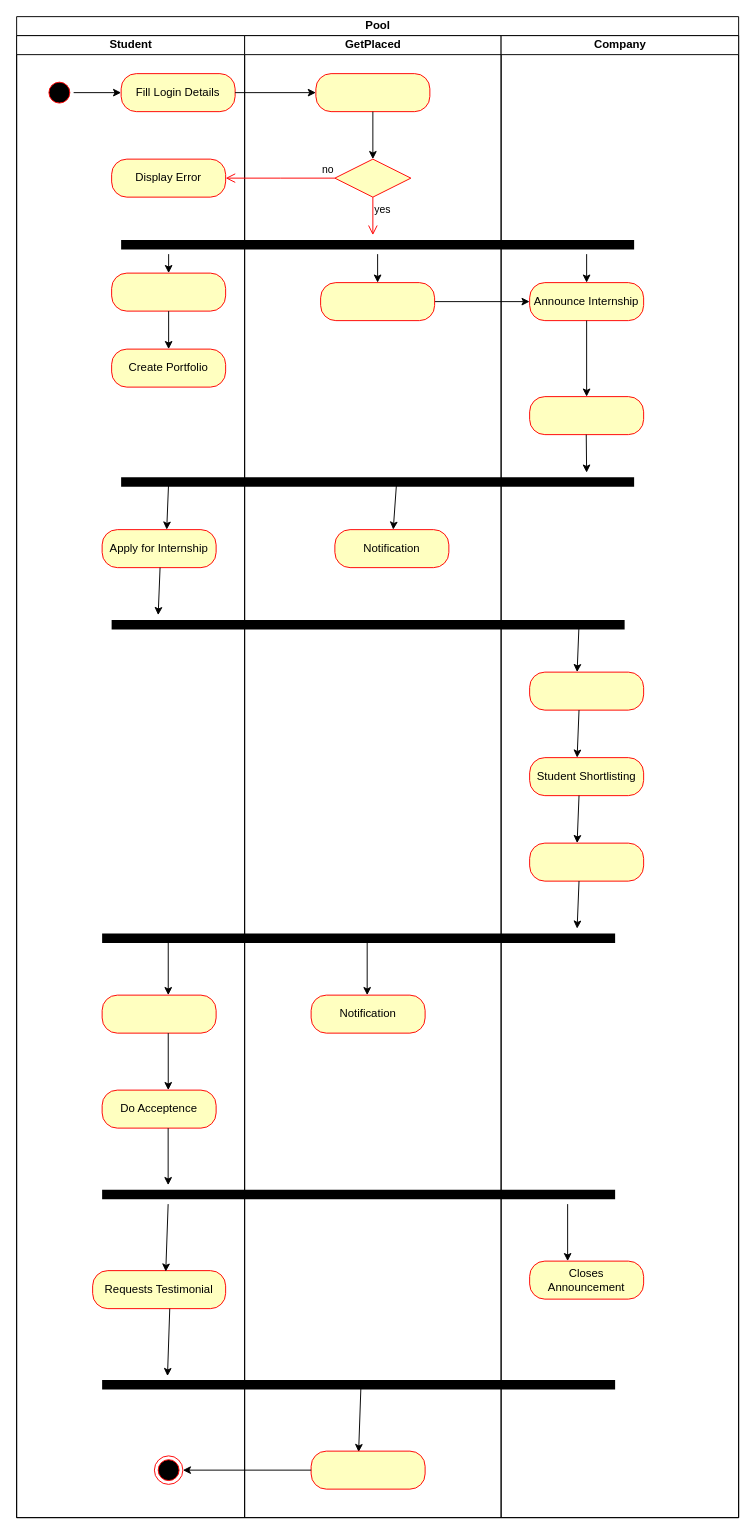
This 755x1534 diagram has some shape labels left out. Here are the shapes that lost their labels. From the top down, the box of each, then its label:
(315, 73, 430, 112): Authenticate
(111, 272, 226, 311): Upload CV
(320, 282, 435, 321): Dashboard
(529, 396, 644, 435): Announce Round
(529, 671, 644, 710): CG Cut
(529, 842, 644, 881): Result Announcement
(101, 994, 216, 1033): Reads Notification
(310, 1450, 425, 1489): Accept Request
